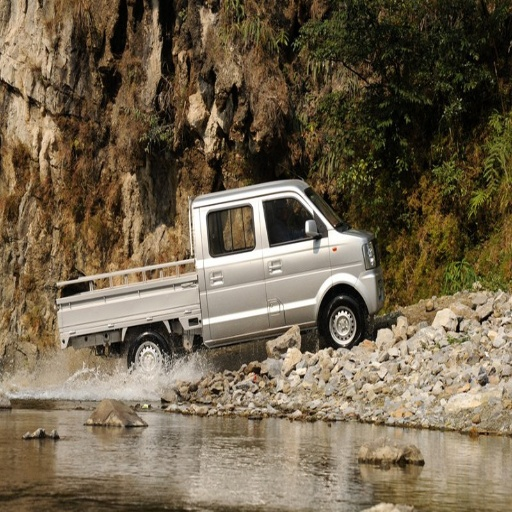trunk: (291, 236, 375, 318), (130, 278, 197, 329)
